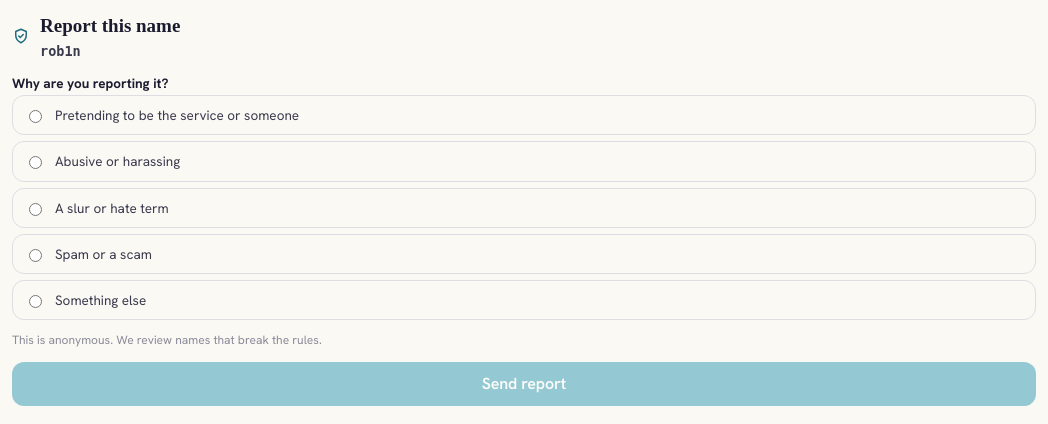
Test: ReportName › submits the chosen reason and shows a thank-you
Expected: the text "rob1n" is shown, [40,42,81,58]
Expected: the button "Send report" is disabled, [12,362,1036,406]
Click the radio button labelled "A slur or hate term": (36, 209) [29,203,42,216]
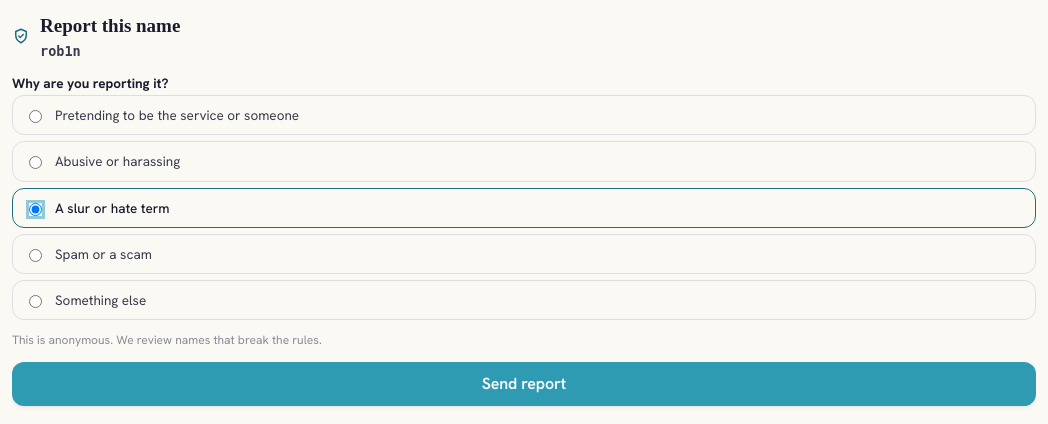
Click the button "Send report": (524, 384) [12,362,1036,406]
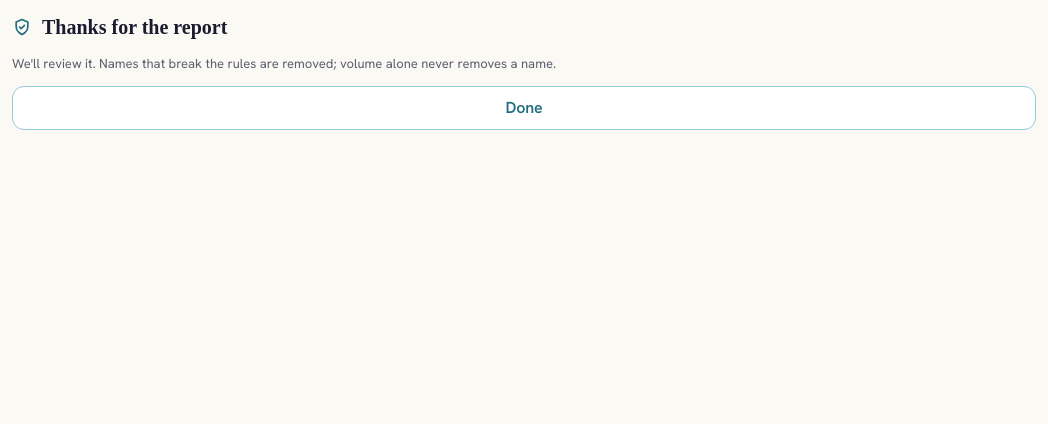
Expected: the text "Thanks for the report" is shown, [42,12,227,42]
